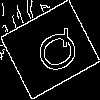Q: (25, 24, 84, 82)
